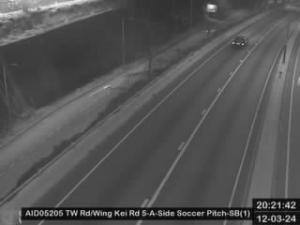vehicle: (232, 36, 248, 48)
